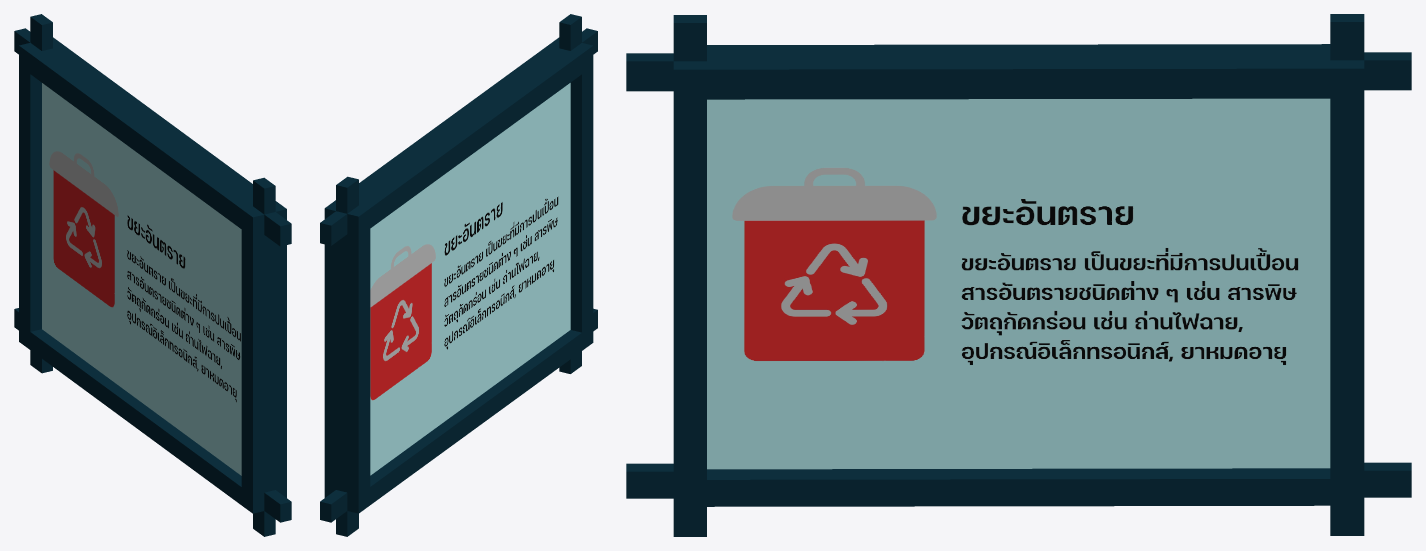
The model's file is 04_Content_Red.fbx.
3 views of the same model, side by side, from view 1: azimuth 30°, elevation 25°; view 2: azimuth 150°, elevation 25°; view 3: azimuth 270°, elevation 25° (orthographic). The views are drawn at different scales.
Visible parts, largest first — view 1: sign_info2; view 2: sign_info2; view 3: sign_info2.
Part boxes in pixels (x1,y1,x2,y2): sign_info2: (14, 14, 291, 536); sign_info2: (320, 14, 597, 536); sign_info2: (626, 14, 1411, 536).
Bounding box in the file's own units: 0.7015 × 6.86 × 9.49.
